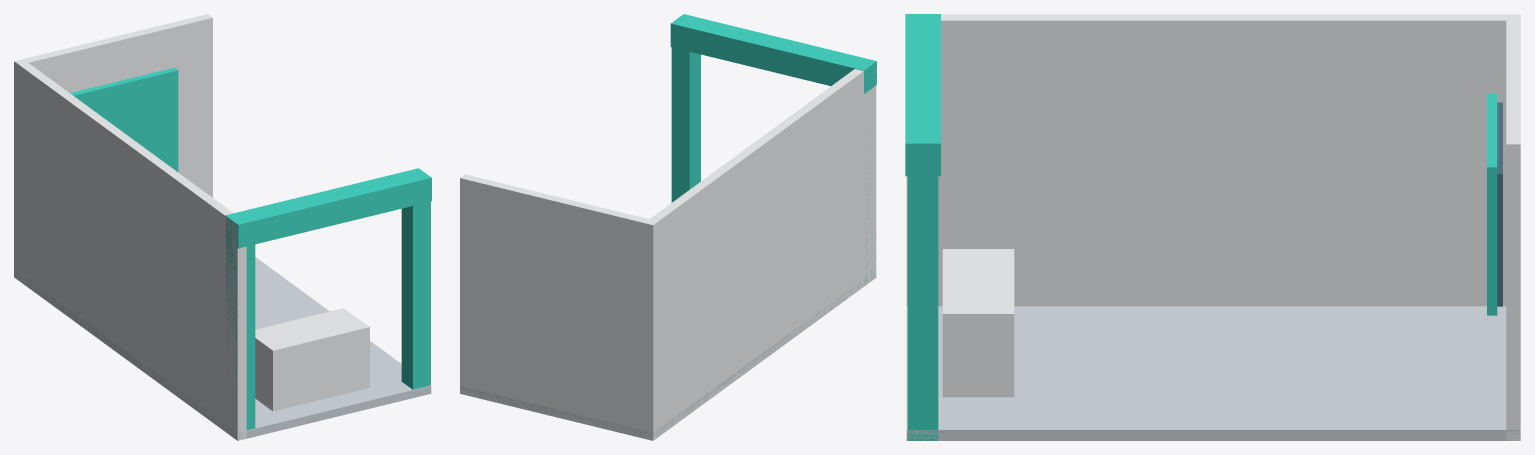
3 renders of one model, left to right at view 1: azimuth 30°, elevation 25°; view 2: azimuth 150°, elevation 25°; view 3: azimuth 270°, elevation 25°, orthographic. The views are drawn at different scales.
Parts seen in each view (by area): view 1: Exhibition Booth Concept; view 2: Exhibition Booth Concept; view 3: Exhibition Booth Concept.
Boxes of the visible parts, left/top/right/bottom form: Exhibition Booth Concept: left=14, top=14, right=431, bottom=440; Exhibition Booth Concept: left=460, top=14, right=876, bottom=440; Exhibition Booth Concept: left=905, top=14, right=1520, bottom=440.
Bounding box in the file's own units: 3 × 3.2 × 6.02.
